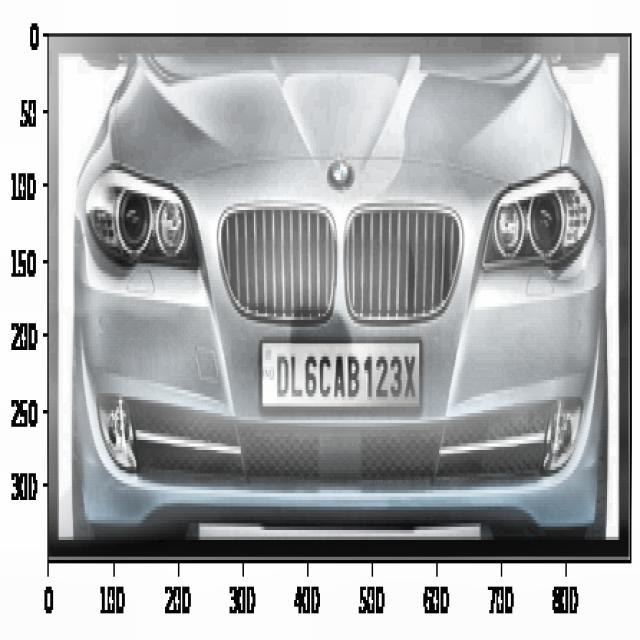license_plate: (271, 340, 421, 418)
